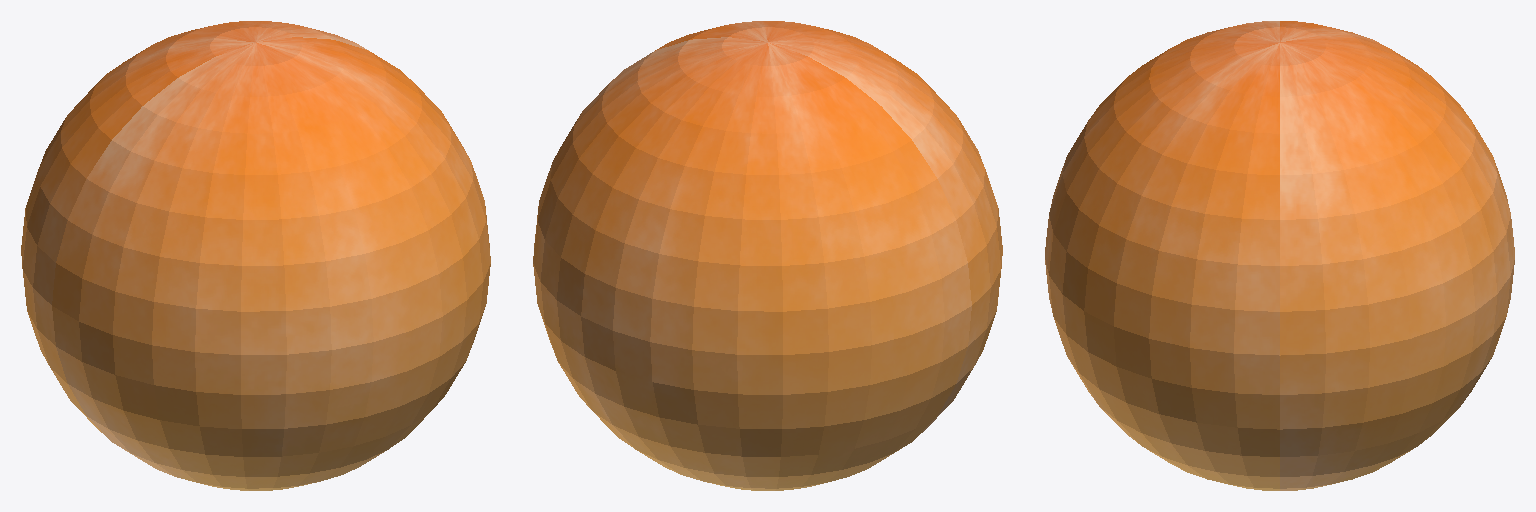
3 renders of one model, left to right at view 1: azimuth 30°, elevation 25°; view 2: azimuth 150°, elevation 25°; view 3: azimuth 270°, elevation 25°, orthographic.
Visible parts, largest first — view 1: 球; view 2: 球; view 3: 球.
Part boxes in pixels (x1,y1,x2,y2): 球: (21, 21, 490, 490); 球: (533, 21, 1002, 490); 球: (1045, 21, 1514, 490).
Size of the model in its own units: 1000 by 1000 by 1000.
Materials: 1 (1 with a texture image).